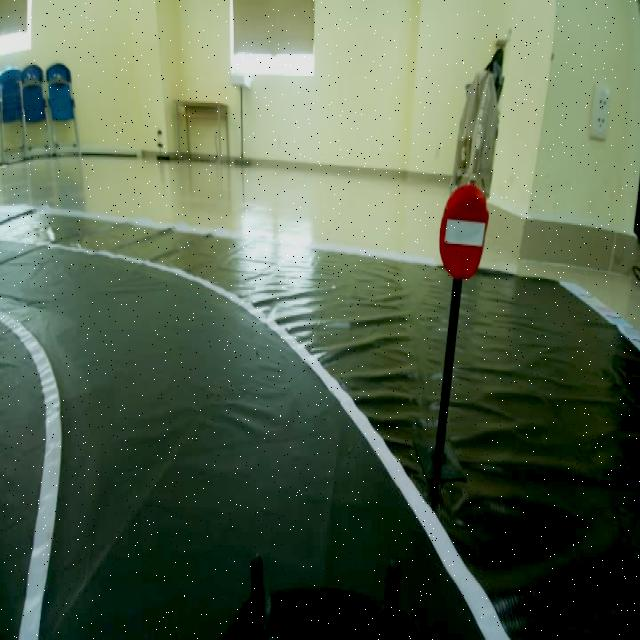no_entry: (441, 185, 493, 282)
